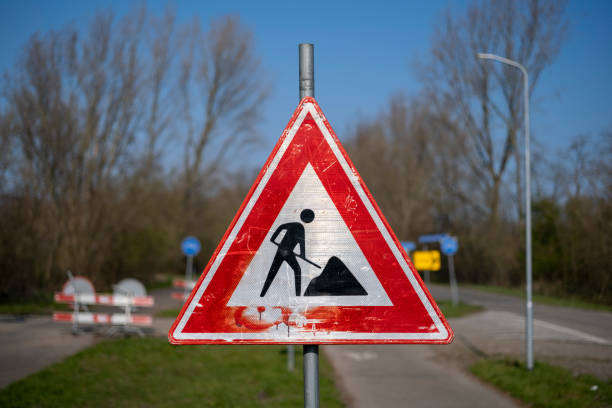yol_calismasi_levha: (173, 103, 450, 346)
